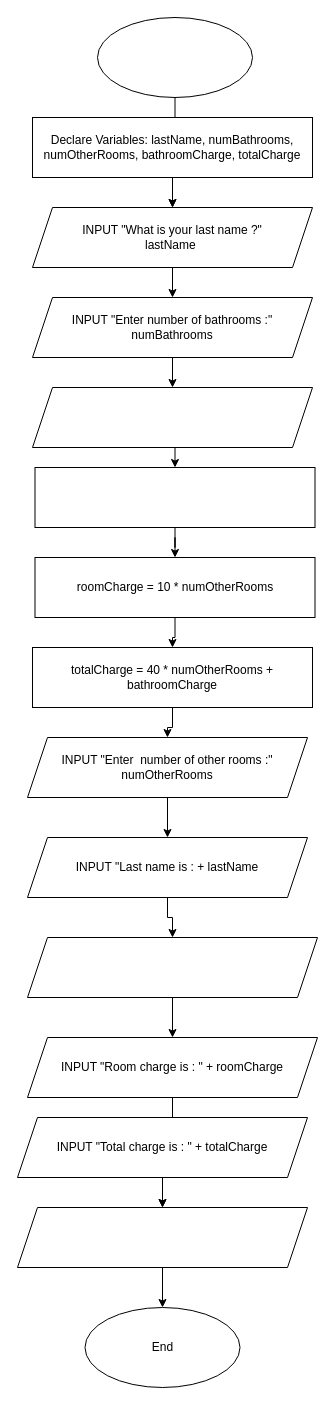
The diagram is 335 pixels wide and 1405 high, and some of its shapes have lost their labels. The centre of each missing label's shape, as x and y in pixels:
bathrooomCharge = 15 * numBathrooms: (x=174, y=497)
INPUT "Bathroom charge is : " + bathroomCharge: (x=172, y=967)
INPUT "Enter the number of rooms :" numOtherRooms: (x=172, y=417)
INPUT "Program completed": (x=162, y=1237)
Start: (x=174, y=57)
